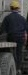boots: (24, 70, 28, 75), (25, 70, 28, 75)
hard-hat: (10, 1, 20, 8)
